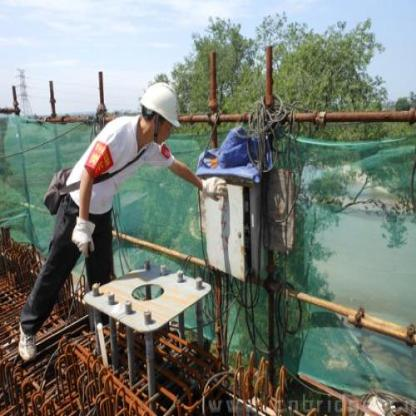helmet: (130, 73, 185, 149)
